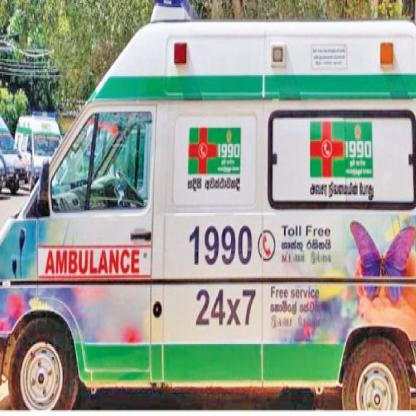van: (0, 23, 415, 407)
